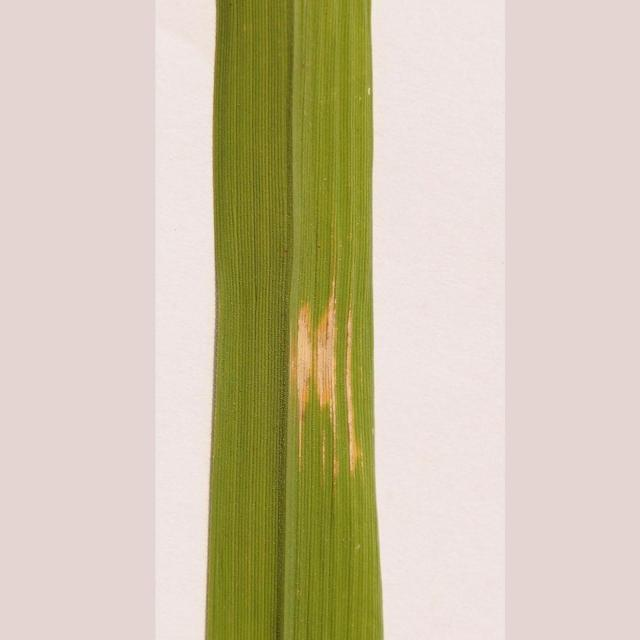Bacterial leaf blight: (242, 223, 374, 507)
